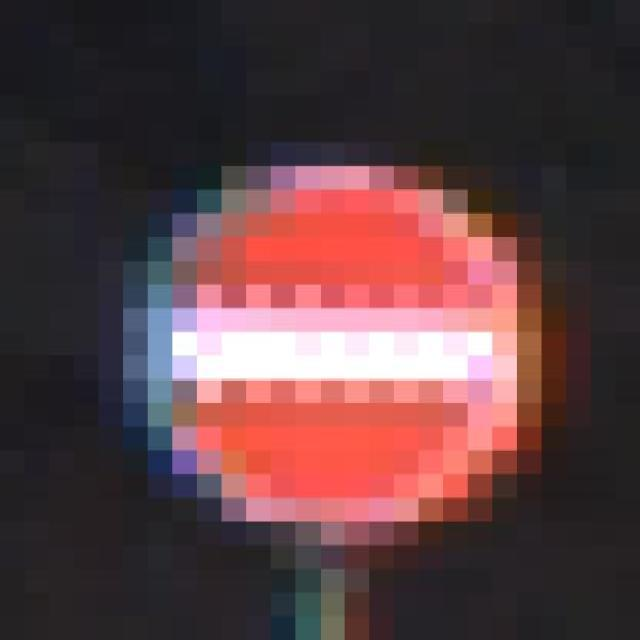B2: (160, 160, 522, 530)
